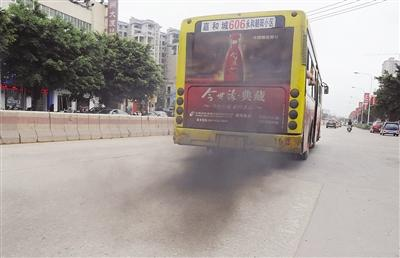smoke: (163, 147, 292, 208)
